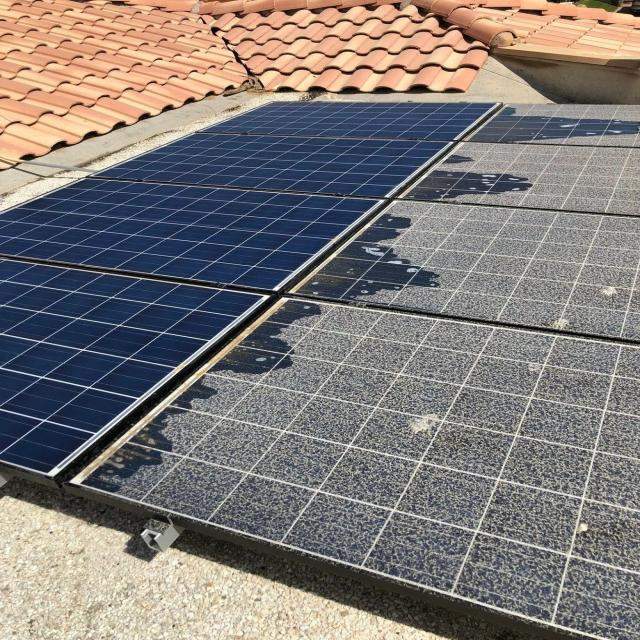clean-solar-panel: (0, 99, 497, 506)
